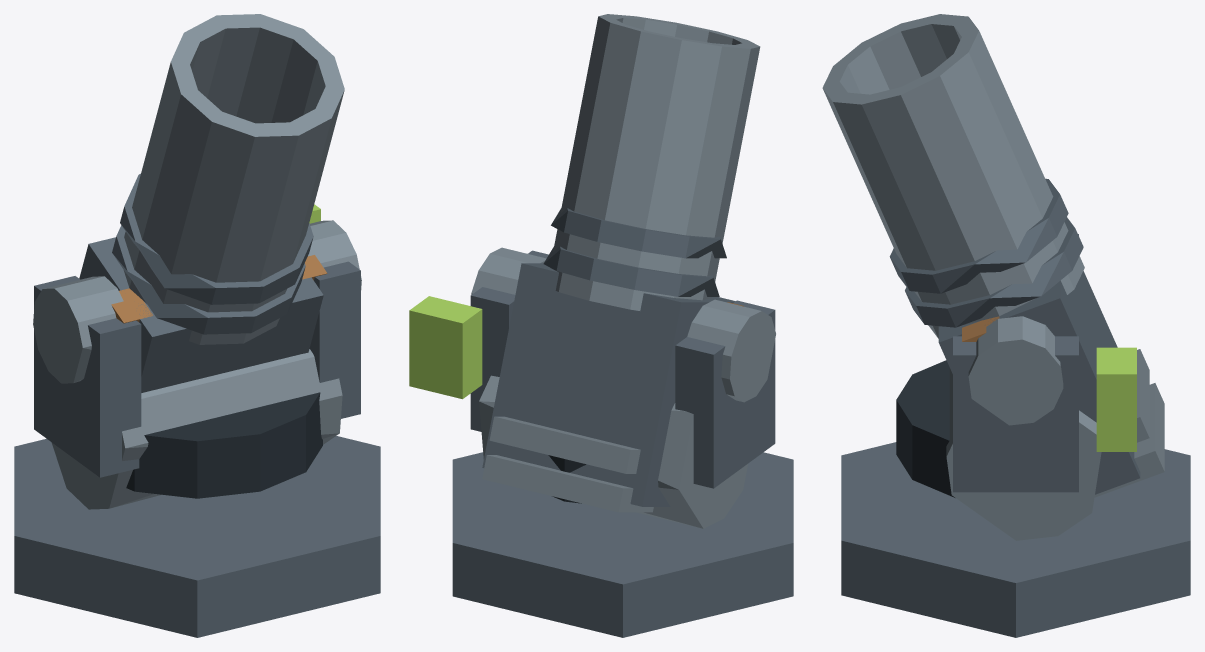
File: mortar_t1_d0.meshopt.glb
3 views of the same model, side by side, from view 1: azimuth 30°, elevation 25°; view 2: azimuth 150°, elevation 25°; view 3: azimuth 270°, elevation 25° (orthographic). The views are drawn at different scales.
Visible parts, largest first — view 1: ROOT_ARMOR_GEOMETRY; view 2: ROOT_ARMOR_GEOMETRY; view 3: ROOT_ARMOR_GEOMETRY.
Boxes of the visible parts, box(x1,y1,x2,y2) form: ROOT_ARMOR_GEOMETRY: box(14, 14, 380, 637); ROOT_ARMOR_GEOMETRY: box(409, 14, 793, 637); ROOT_ARMOR_GEOMETRY: box(822, 14, 1190, 637).
Bounding box in the file's own units: 1.6 × 2.29 × 1.46.
